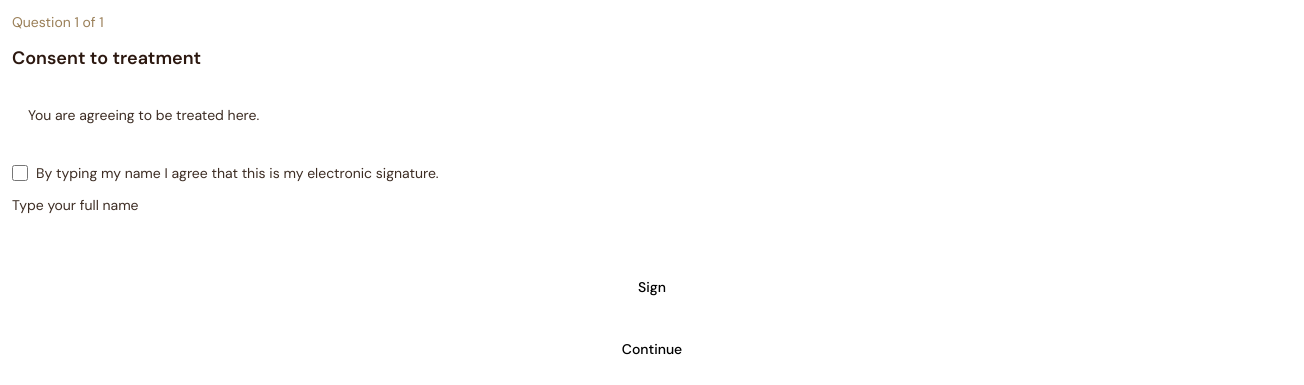
Test: a question whose renderer writes for itself › never sends it through the save route
What coordinates should you click on to do the following:
click the button with test id "forms-continue"
I would click on:
 (652, 349)
Its box is [12,329,1292,369].
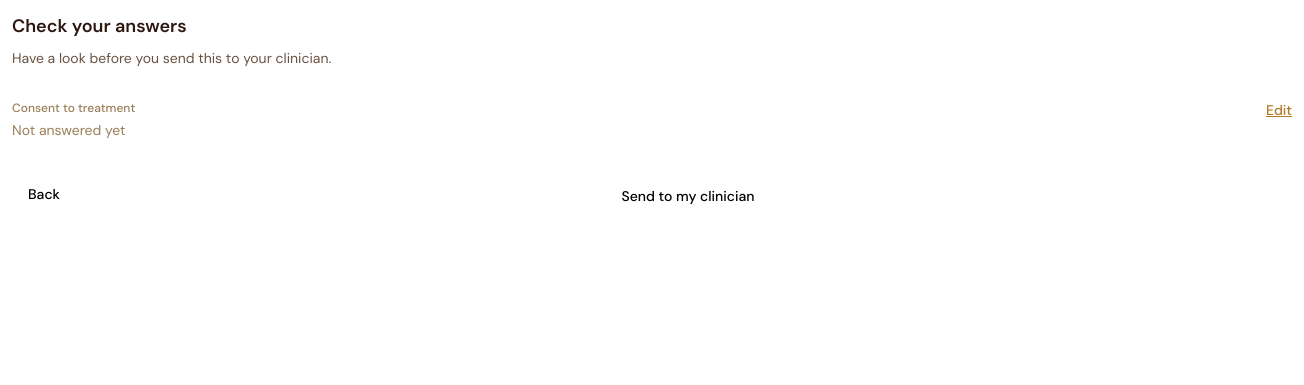
Expected: the element with test id "forms-review" is shown, [12,12,1292,216]
